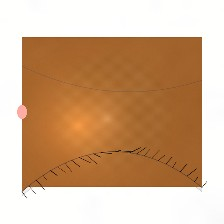corneal_ulcer: (76, 95, 136, 143)
